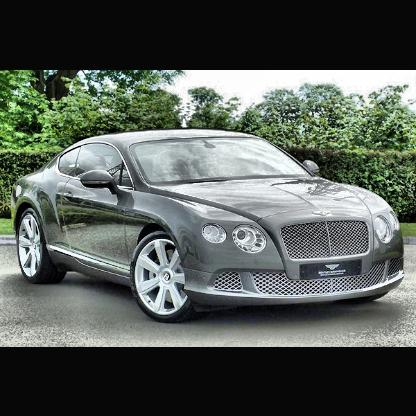Bentley Continental GT Coupe 2012: (13, 129, 405, 322)
